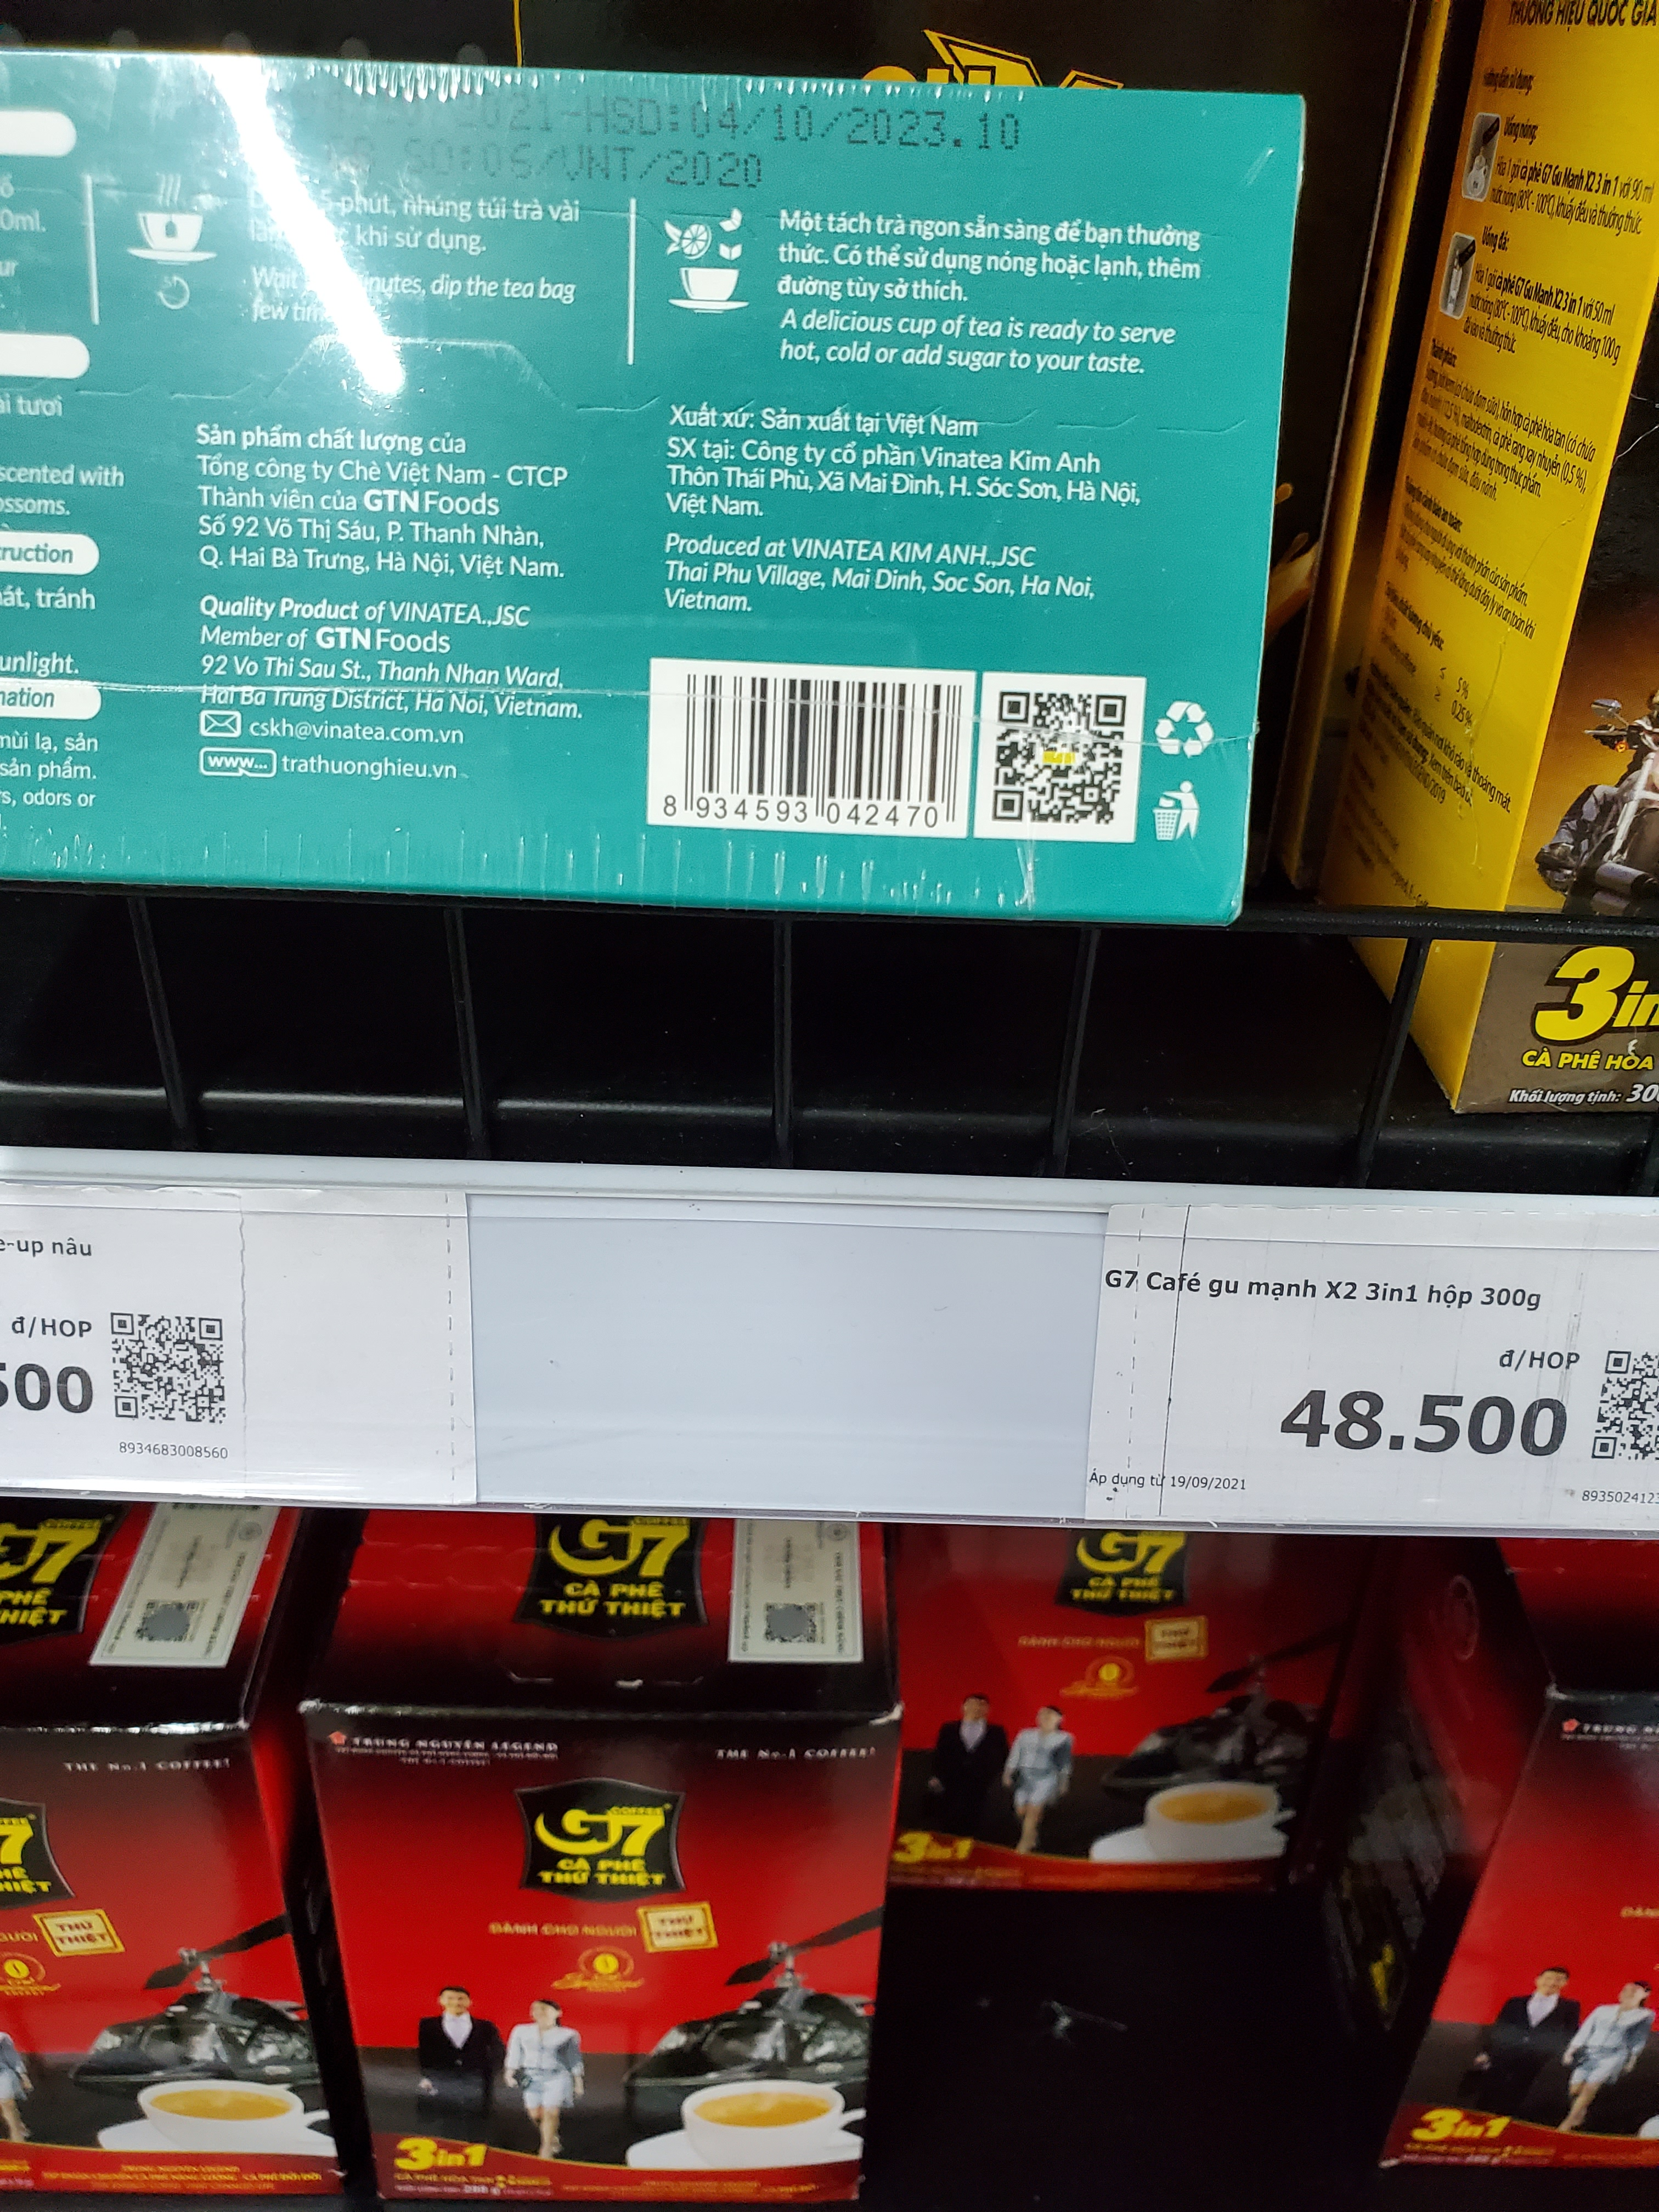barcode: (648, 646, 974, 860)
qr code: (974, 669, 1143, 846), (99, 1296, 239, 1442)
